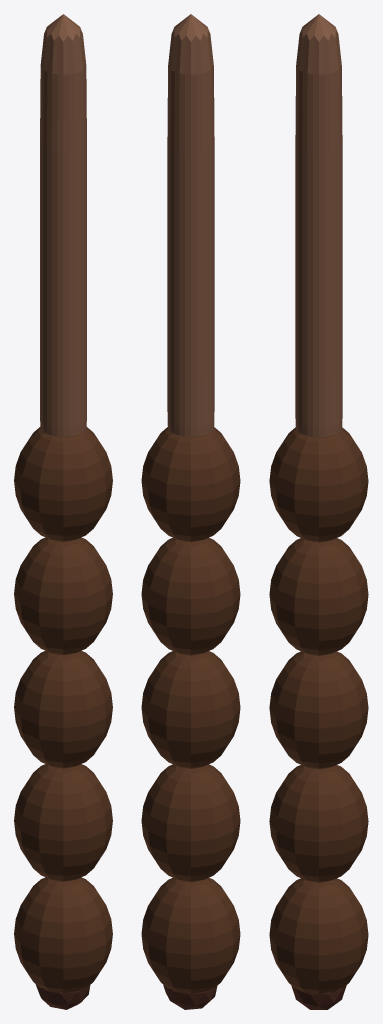
File: Wand 210.glb
The picture shows the model from 3 angles, left to right: view 1: azimuth 30°, elevation 25°; view 2: azimuth 210°, elevation 25°; view 3: azimuth 270°, elevation 25°; orthographic projection.
Visible parts, largest first — view 1: GeneratedWand; view 2: GeneratedWand; view 3: GeneratedWand.
Part boxes in pixels (<box>): GeneratedWand: <box>14,14,112,1009</box>; GeneratedWand: <box>141,14,240,1009</box>; GeneratedWand: <box>269,14,368,1009</box>.
Size of the model in its own units: 0.0447 by 0.4973 by 0.0449.
